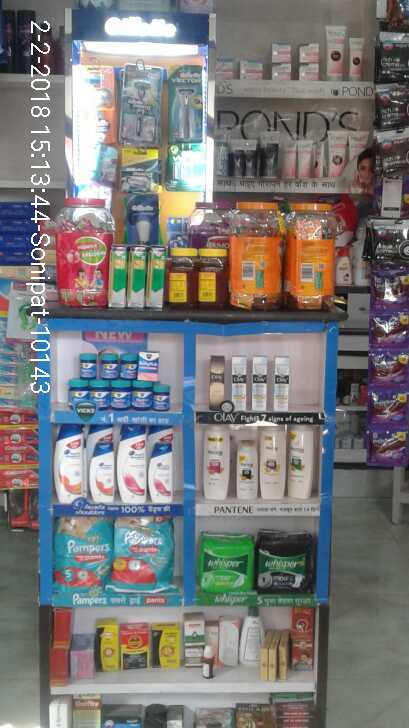beauty: (202, 413, 235, 501), (52, 419, 82, 502), (256, 427, 288, 504), (286, 422, 314, 500), (120, 430, 149, 505), (146, 440, 179, 505), (234, 434, 263, 504), (87, 439, 118, 499), (273, 352, 294, 414), (231, 356, 251, 411), (252, 356, 270, 410), (210, 353, 224, 411), (120, 429, 122, 430)
pharmacy: (114, 519, 178, 591), (57, 517, 115, 583), (259, 531, 314, 595), (199, 535, 257, 592), (94, 345, 114, 382), (133, 350, 159, 377), (74, 351, 98, 378), (108, 382, 131, 409), (130, 384, 153, 410), (154, 385, 174, 412), (67, 381, 87, 405), (92, 379, 107, 410), (118, 354, 136, 377)
